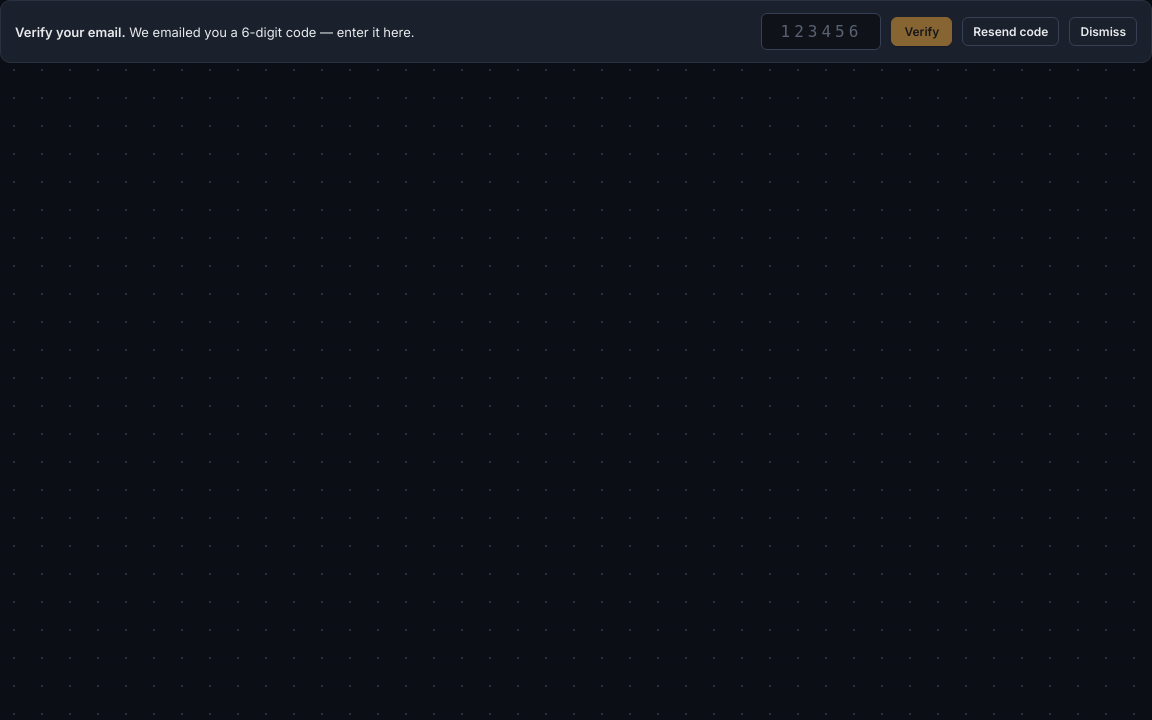
Test: VerificationBanner (email OTP) › only accepts digits and keeps Verify disabled until all six are entered
The image size is (1152, 720).
Type "12ab3" into the field named "6-digit verification code" at [821, 32], box [761,13,881,50]
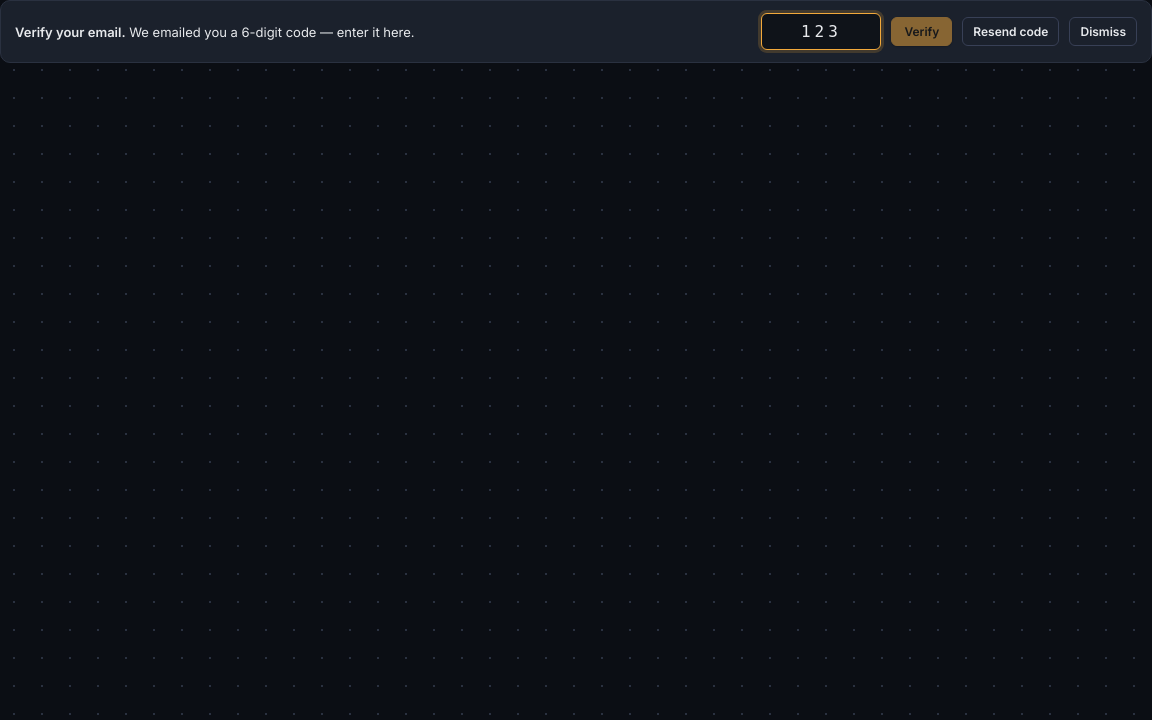
Expected: the button "Verify" is disabled, [891,17,952,46]
Now the field named "6-digit verification code" holds "123", box [761,13,881,50]
